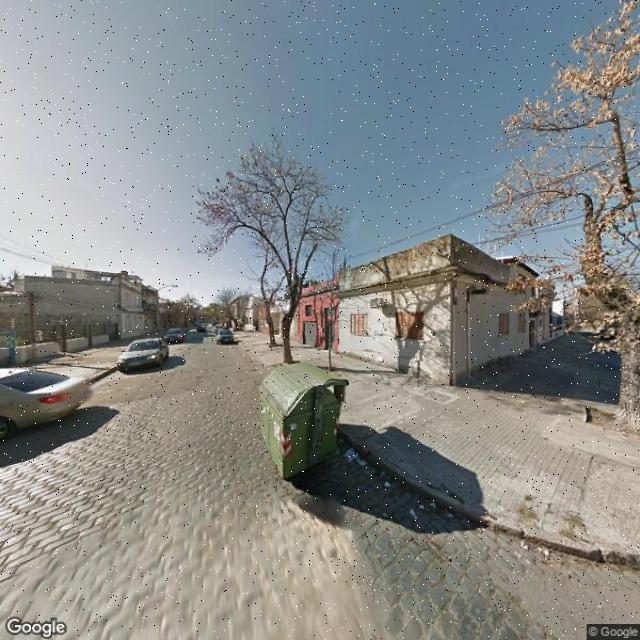garbage container: (249, 358, 369, 495)
